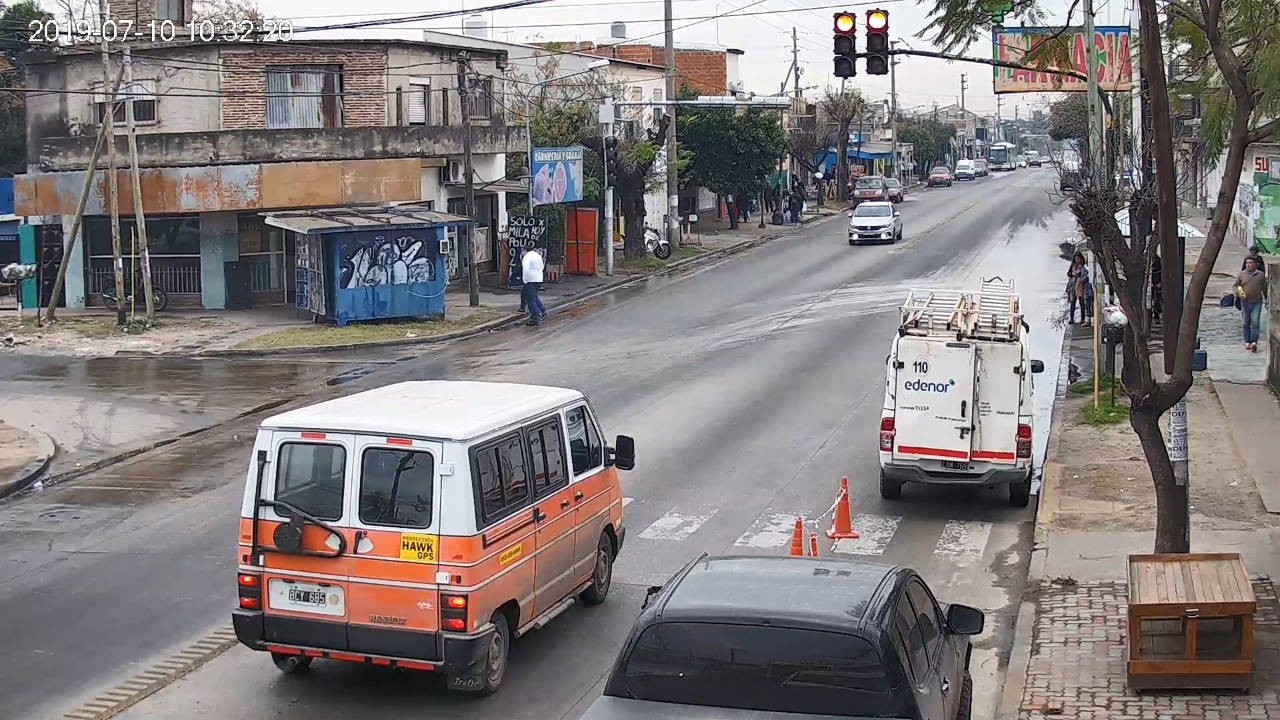car: (233, 379, 636, 693), (579, 553, 985, 720), (877, 292, 1044, 507)
front car: (848, 202, 903, 245)
traffic light: (834, 13, 856, 76), (867, 10, 888, 74)
